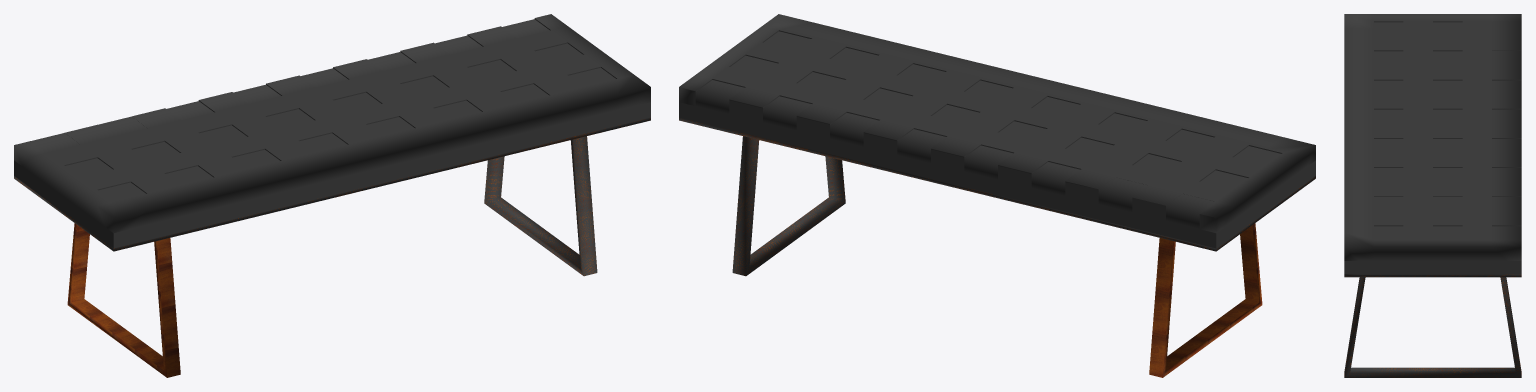
3 renders of one model, left to right at view 1: azimuth 30°, elevation 25°; view 2: azimuth 150°, elevation 25°; view 3: azimuth 270°, elevation 25°, orthographic. The views are drawn at different scales.
Parts seen in each view (by area): view 1: mesh1_mesh1-geometry; view 2: mesh1_mesh1-geometry; view 3: mesh1_mesh1-geometry.
Boxes of the visible parts, x1,y1,x2,y2 form: mesh1_mesh1-geometry: [14, 14, 650, 377]; mesh1_mesh1-geometry: [679, 14, 1315, 377]; mesh1_mesh1-geometry: [1344, 14, 1521, 377].
Bounding box in the file's own units: 0.9137 × 0.2811 × 0.2935.
